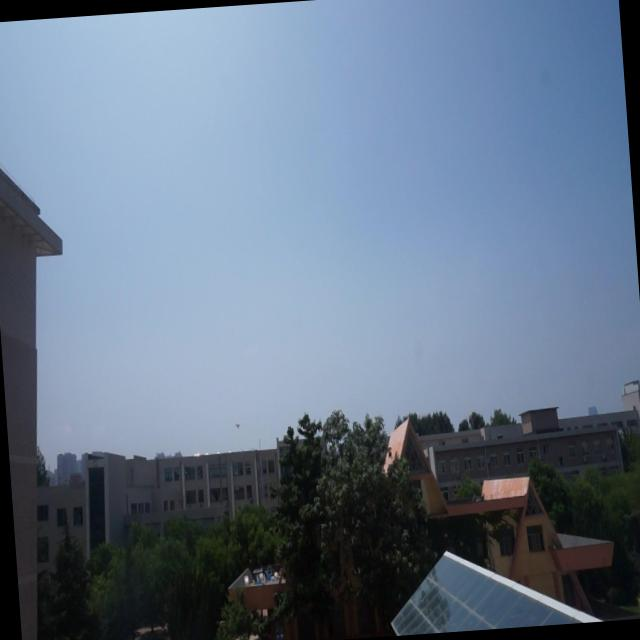drone: (232, 416, 242, 432)
